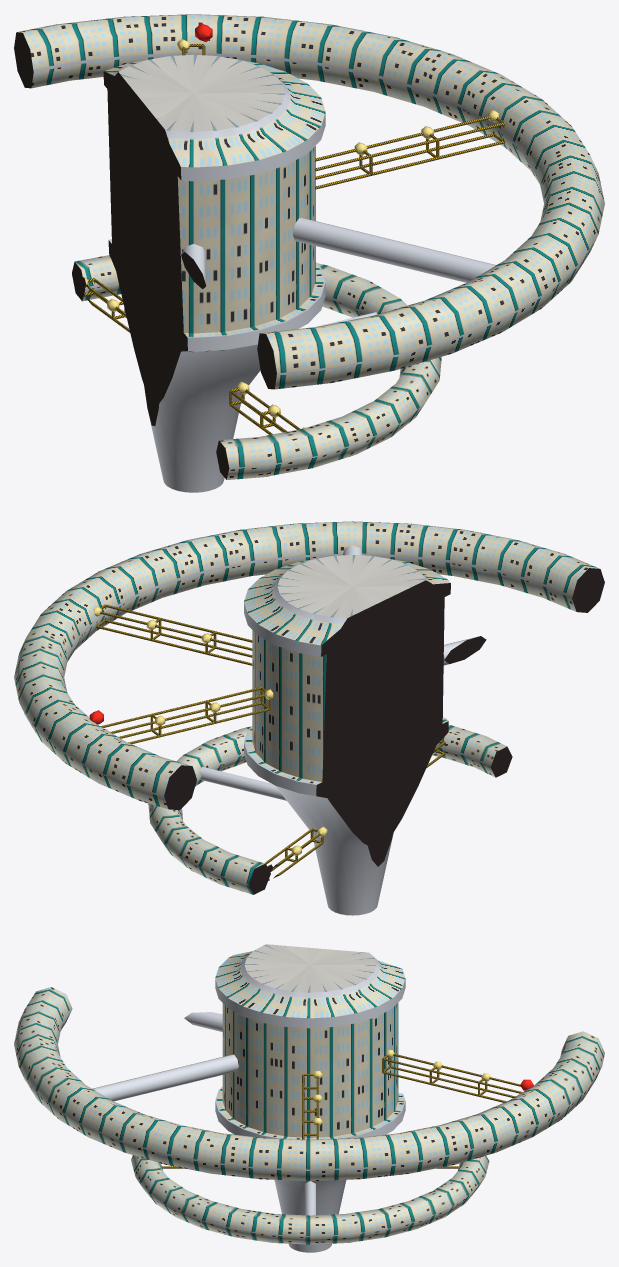
Rendered from research_station_build2_debris2.obj.
The picture shows the model from 3 angles, top to bottom: view 1: azimuth 30°, elevation 25°; view 2: azimuth 150°, elevation 25°; view 3: azimuth 270°, elevation 25°; orthographic projection. The views are drawn at different scales.
Parts seen in each view (by area): view 1: hub, lab_ring, lab_ring2, spoke, post, work_light, girder; view 2: hub, lab_ring, lab_ring2, post, spoke2, spoke, girder, work_light; view 3: hub, lab_ring, lab_ring2, spoke, post, girder.
Part boxes in pixels (x1=…): hub: x1=103, y1=54, x2=325, y2=492; lab_ring: x1=14, y1=14, x2=604, y2=389; lab_ring2: x1=72, y1=255, x2=441, y2=479; spoke: x1=181, y1=218, x2=496, y2=289; post: x1=86, y1=44, x2=504, y2=434; work_light: x1=82, y1=39, x2=498, y2=428; girder: x1=84, y1=44, x2=504, y2=427; hub: x1=244, y1=554, x2=450, y2=915; lab_ring: x1=14, y1=521, x2=604, y2=810; lab_ring2: x1=148, y1=725, x2=512, y2=894; post: x1=96, y1=604, x2=445, y2=878; spoke2: x1=199, y1=766, x2=286, y2=800; spoke: x1=342, y1=545, x2=486, y2=665; girder: x1=96, y1=604, x2=445, y2=880; work_light: x1=93, y1=606, x2=327, y2=872; hub: x1=215, y1=944, x2=405, y2=1252; lab_ring: x1=14, y1=987, x2=604, y2=1180; lab_ring2: x1=131, y1=1155, x2=489, y2=1244; spoke: x1=92, y1=1012, x2=238, y2=1101; post: x1=161, y1=1053, x2=522, y2=1168; girder: x1=302, y1=1054, x2=487, y2=1135.
Bounding box in the file's own units: 106 × 84 × 162.
6 materials, 2 textured.
